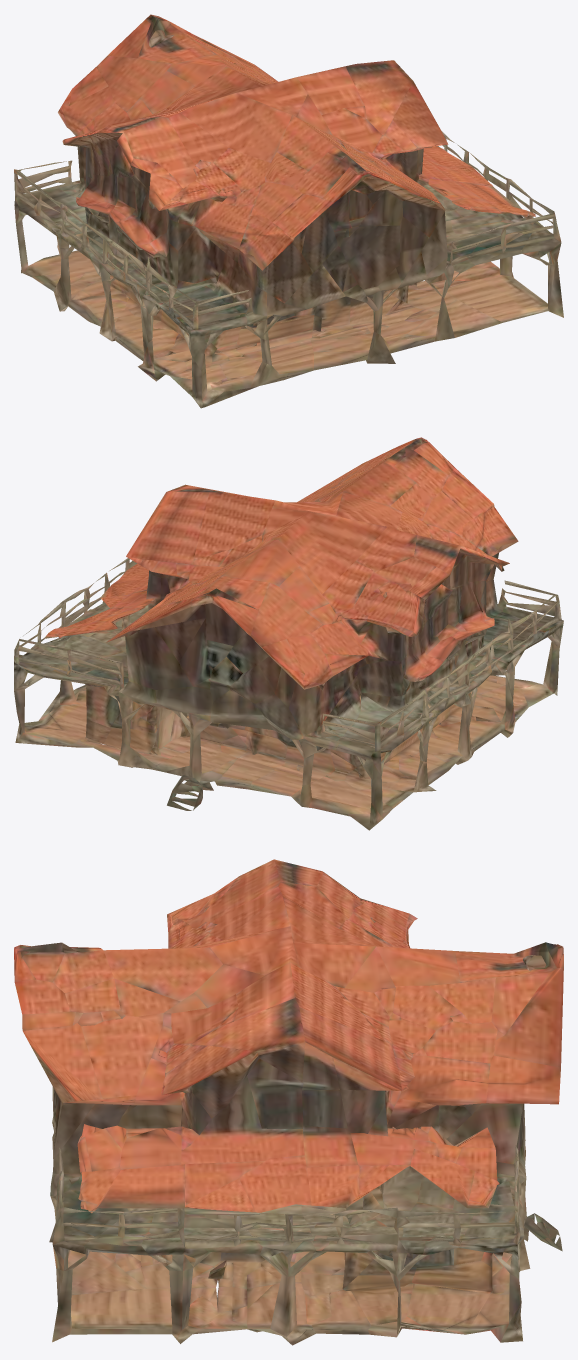
File: bq_rural_house.lod1.glb
3 renders of one model, top to bottom at view 1: azimuth 30°, elevation 25°; view 2: azimuth 150°, elevation 25°; view 3: azimuth 270°, elevation 25°, orthographic. The views are drawn at different scales.
Parts seen in each view (by area): view 1: mesh_node; view 2: mesh_node; view 3: mesh_node.
Part boxes in pixels (x1,y1,x2,y2): mesh_node: (14,14,563,408); mesh_node: (14,437,563,830); mesh_node: (14,859,563,1345).
Bounding box in the file's own units: 1.89 × 1.1 × 1.89.
Materials: 1 (1 with a texture image).
